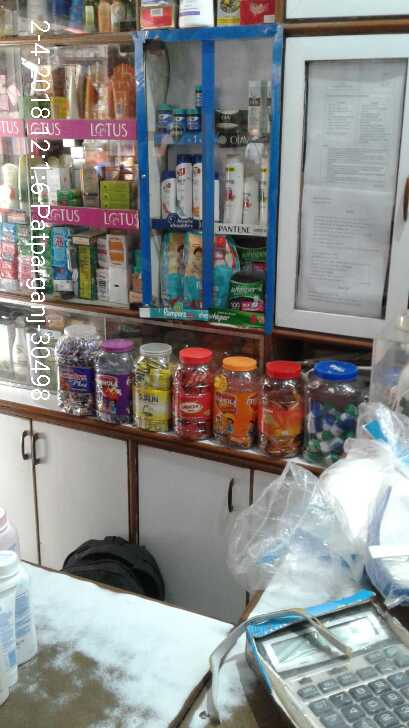vicks: (156, 105, 172, 132), (187, 109, 200, 132), (174, 109, 187, 132), (195, 85, 203, 106)
